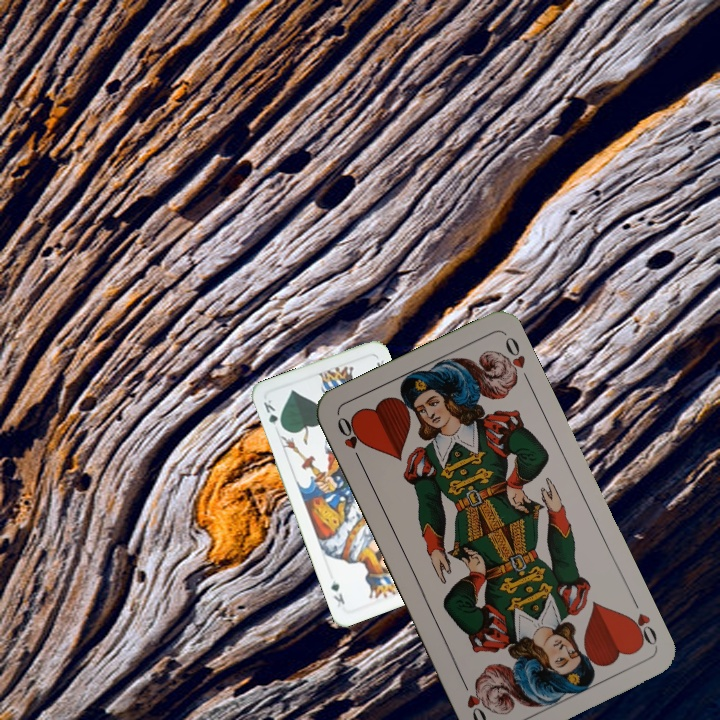GK: (259, 395, 286, 432)
HO: (622, 593, 660, 650), (333, 413, 366, 468)
